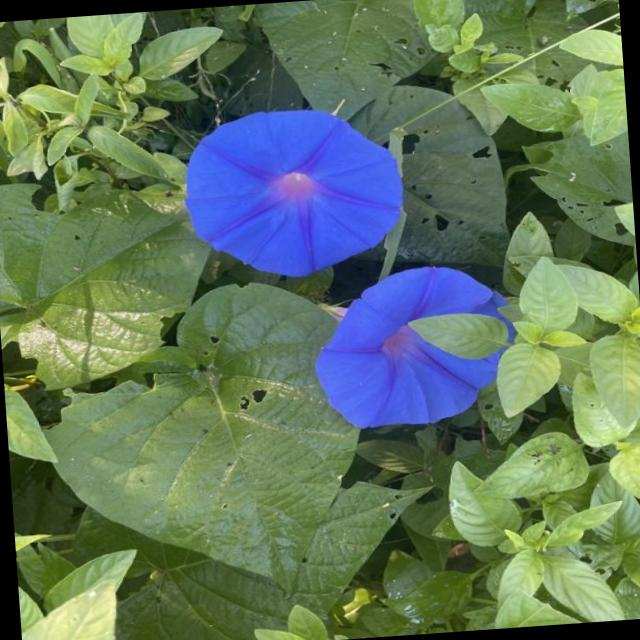ipomoea: (174, 98, 412, 286), (304, 257, 524, 434)
